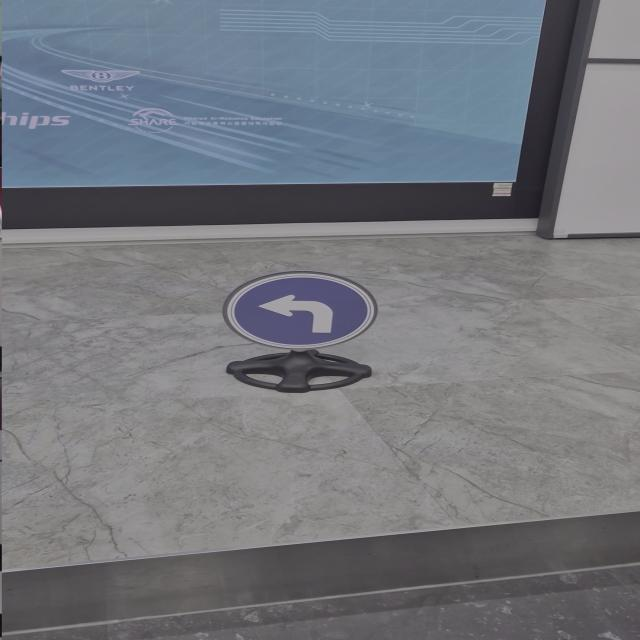left_direction: (206, 268, 394, 354)
